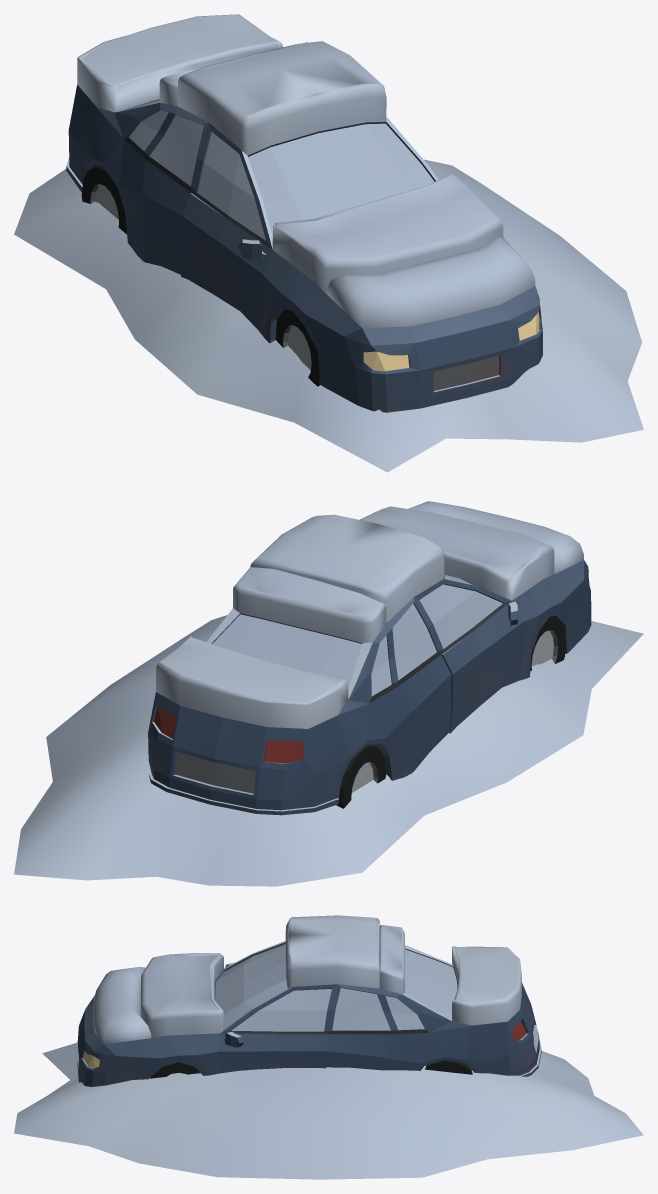
Rendered from sedan_snowed.glb.
The picture shows the model from 3 angles, top to bottom: view 1: azimuth 30°, elevation 25°; view 2: azimuth 150°, elevation 25°; view 3: azimuth 270°, elevation 25°; orthographic projection. The views are drawn at different scales.
Parts seen in each view (by area): view 1: Body; view 2: Body; view 3: Body.
Boxes of the visible parts, left/top/right/bottom form: Body: left=14, top=14, right=643, bottom=472; Body: left=14, top=501, right=643, bottom=886; Body: left=14, top=915, right=643, bottom=1179.
Size of the model in its own units: 3.5 by 1.72 by 6.32.
